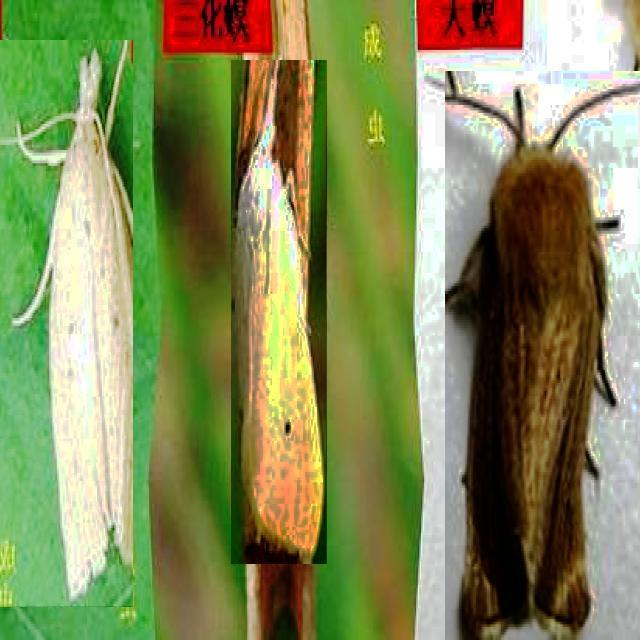stem-borer: (445, 71, 640, 640), (0, 40, 133, 606), (232, 61, 328, 565)
